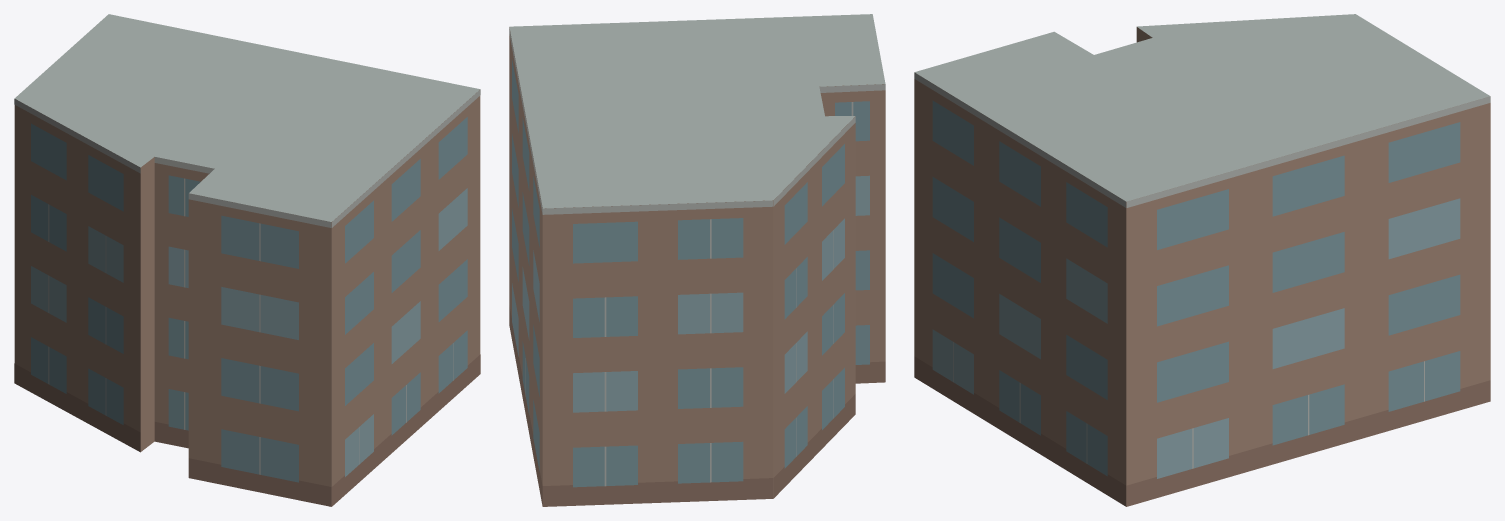
File: survey-upis-32928051.glb
The picture shows the model from 3 angles, left to right: view 1: azimuth 30°, elevation 25°; view 2: azimuth 150°, elevation 25°; view 3: azimuth 270°, elevation 25°; orthographic projection. The views are drawn at different scales.
Visible parts, largest first — view 1: survey-upis-32928051.tmp; view 2: survey-upis-32928051.tmp; view 3: survey-upis-32928051.tmp.
Boxes of the visible parts, <box> form: survey-upis-32928051.tmp: <box>14,14,480,506</box>; survey-upis-32928051.tmp: <box>509,14,885,506</box>; survey-upis-32928051.tmp: <box>914,14,1490,506</box>.
Size of the model in its own units: 15.13 by 11.46 by 19.63.
